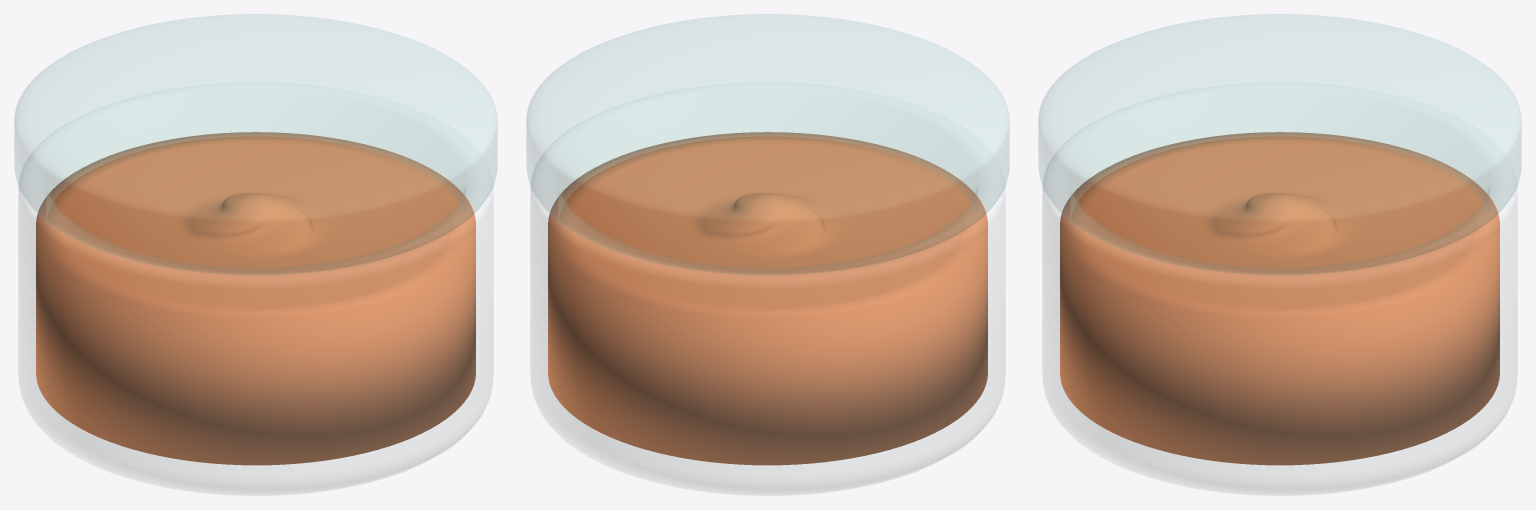
Rendered from dewlab-balm.glb.
3 views of the same model, side by side, from view 1: azimuth 30°, elevation 25°; view 2: azimuth 150°, elevation 25°; view 3: azimuth 270°, elevation 25° (orthographic).
Parts seen in each view (by area): view 1: Balm.Jar, Balm.Balm, Balm.Lid; view 2: Balm.Jar, Balm.Balm, Balm.Lid; view 3: Balm.Jar, Balm.Balm, Balm.Lid.
Part boxes in pixels (box(x1,y1,x2,y2)): Balm.Jar: box(18, 83, 493, 495); Balm.Balm: box(36, 132, 475, 465); Balm.Lid: box(14, 14, 497, 275); Balm.Jar: box(530, 83, 1005, 495); Balm.Balm: box(548, 132, 987, 465); Balm.Lid: box(526, 14, 1009, 275); Balm.Jar: box(1042, 83, 1517, 495); Balm.Balm: box(1060, 132, 1499, 465); Balm.Lid: box(1038, 14, 1521, 275).
Size of the model in its own units: 0.0692 by 0.0502 by 0.0692.
